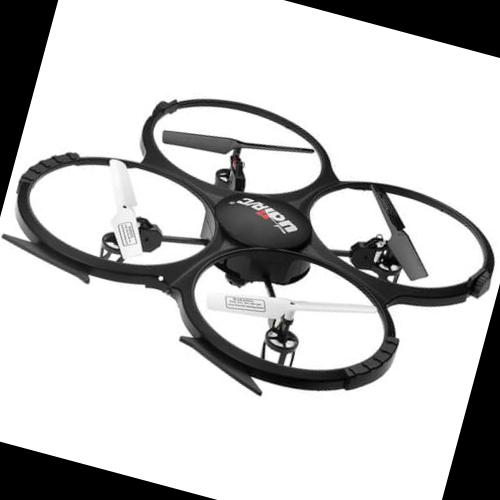drone: (0, 43, 500, 429)
